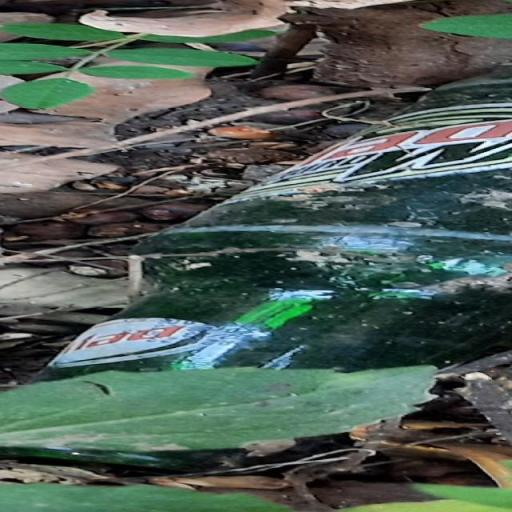glass: (19, 64, 512, 456)
